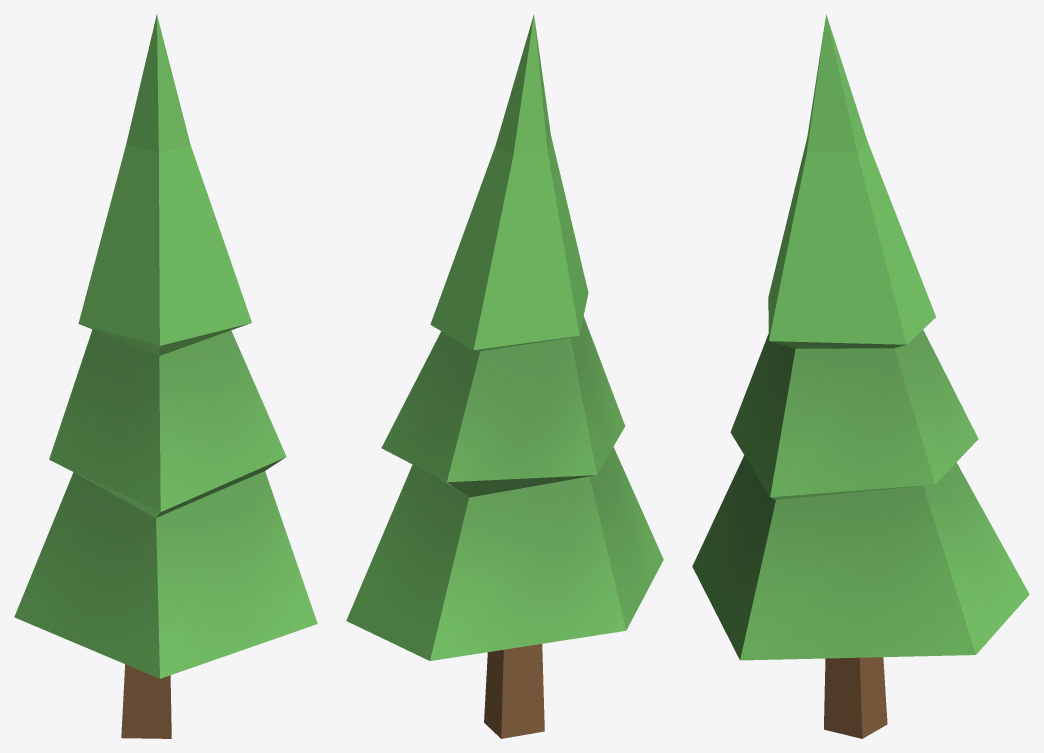
Rendered from Fir_Tree_s_01_LOD.fbx.
The picture shows the model from 3 angles, left to right: view 1: azimuth 30°, elevation 25°; view 2: azimuth 150°, elevation 25°; view 3: azimuth 270°, elevation 25°; orthographic projection. The views are drawn at different scales.
Visible parts, largest first — view 1: Fir_Tree_s_01_LOD0; view 2: Fir_Tree_s_01_LOD0; view 3: Fir_Tree_s_01_LOD0.
Boxes of the visible parts, x1,y1,x2,y2 form: Fir_Tree_s_01_LOD0: (14, 14, 317, 738); Fir_Tree_s_01_LOD0: (346, 15, 663, 738); Fir_Tree_s_01_LOD0: (692, 14, 1029, 738).
Size of what is drawn, in the model's own units: 90.21 by 265 by 114.
